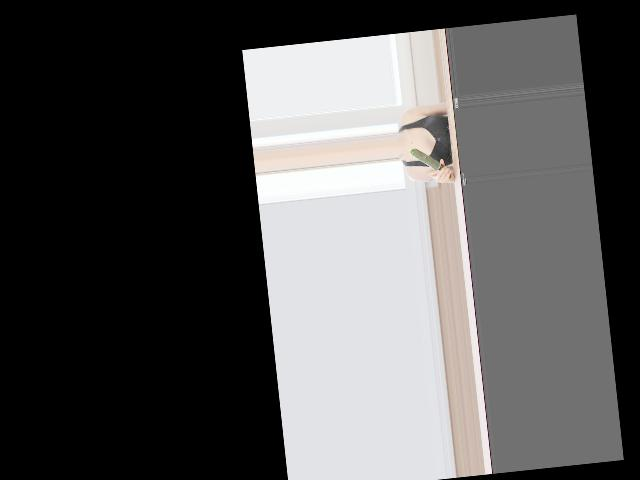cucumber: (408, 144, 452, 182)
